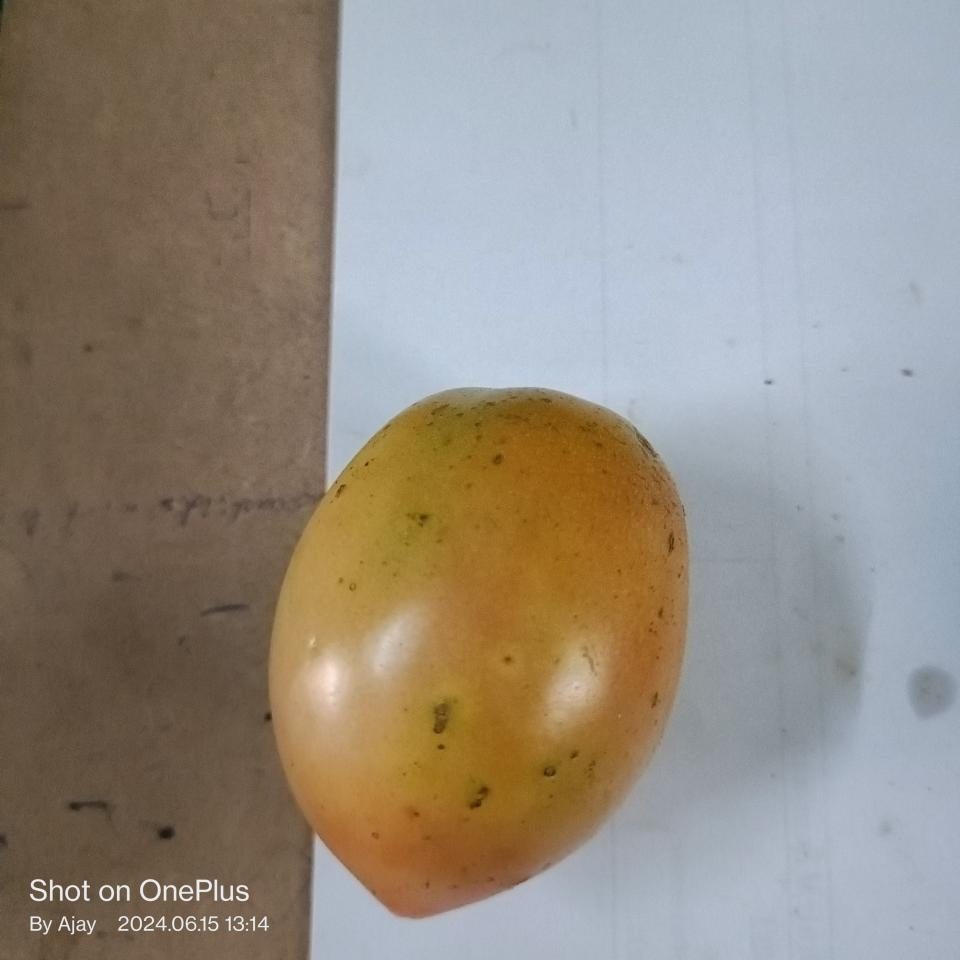Bacterial_Spot: (428, 697, 454, 738), (469, 784, 492, 810), (540, 763, 559, 780)
